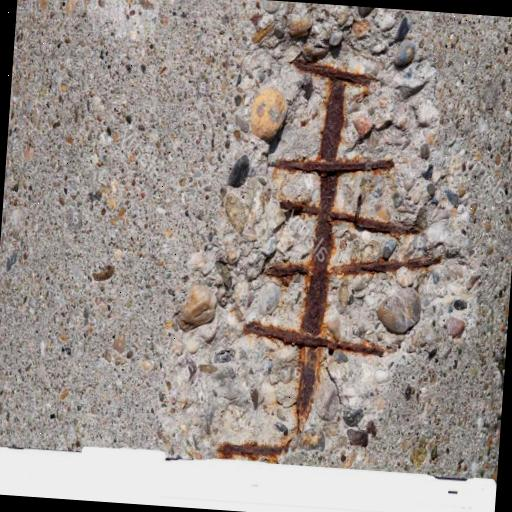spalling: (137, 28, 476, 457)
